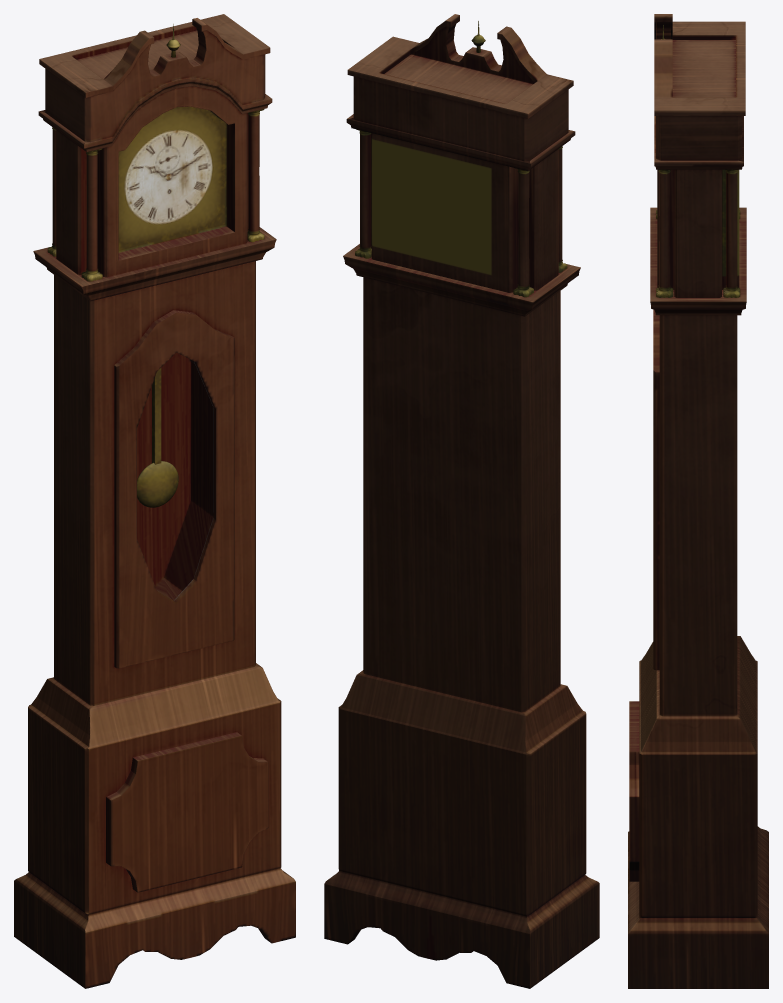
The model's file is old_grandfather_clock.glb.
The picture shows the model from 3 angles, left to right: view 1: azimuth 30°, elevation 25°; view 2: azimuth 150°, elevation 25°; view 3: azimuth 270°, elevation 25°; orthographic projection. The views are drawn at different scales.
Visible parts, largest first — view 1: pCube14; view 2: pCube14; view 3: pCube14.
Part boxes in pixels (left/top/right/bottom): pCube14: left=14, top=14, right=295, bottom=988; pCube14: left=324, top=14, right=599, bottom=988; pCube14: left=628, top=14, right=768, bottom=988.
Size of the model in its own units: 0.409 by 1.72 by 0.24.
1 material, 1 textured.
